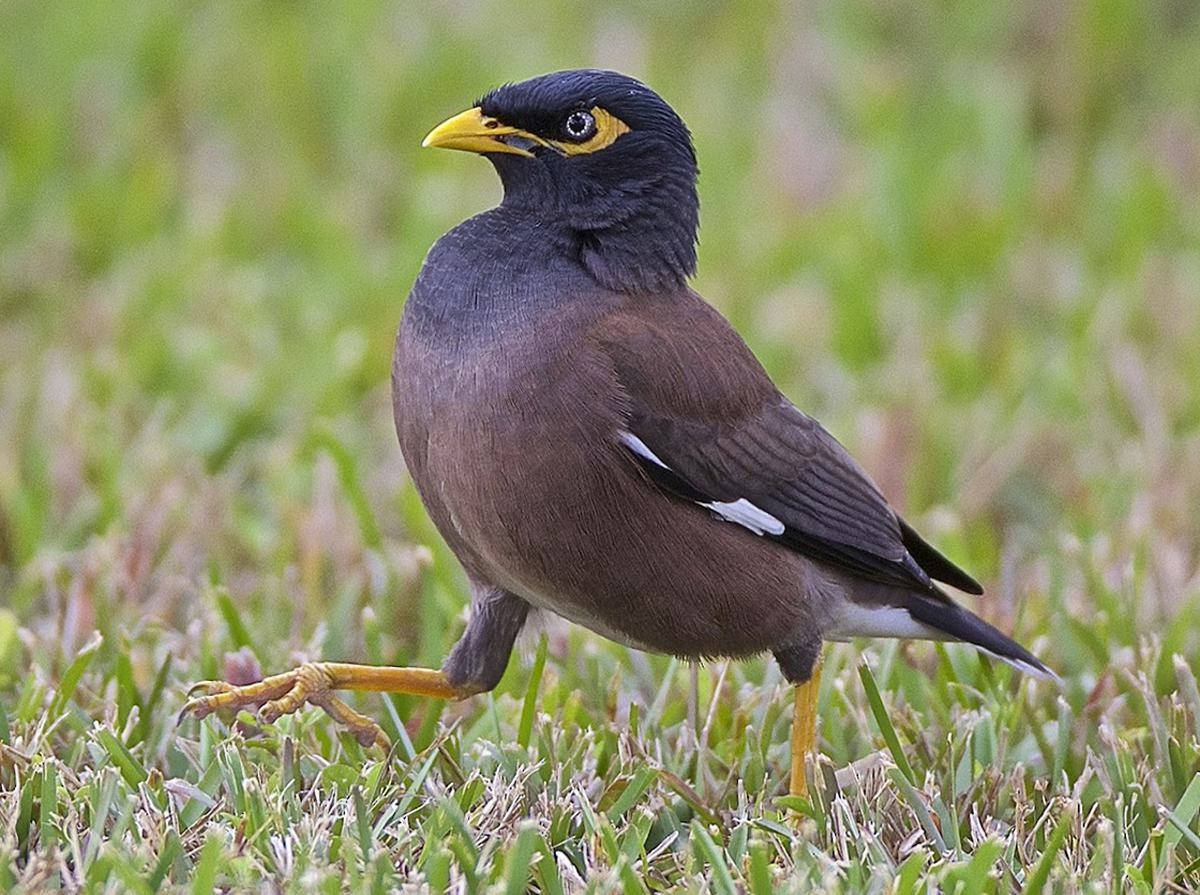myna: (383, 68, 988, 761)
